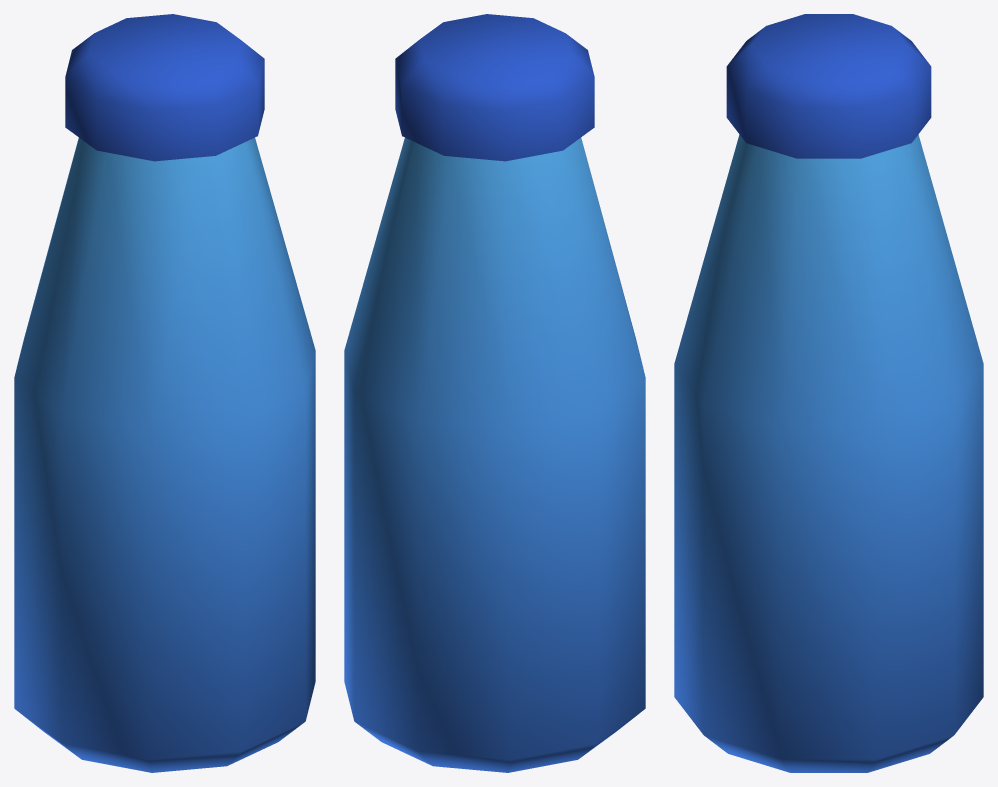
The model's file is bottle_small_water.fbx.
3 views of the same model, side by side, from view 1: azimuth 30°, elevation 25°; view 2: azimuth 150°, elevation 25°; view 3: azimuth 270°, elevation 25° (orthographic).
Visible parts, largest first — view 1: bottle_small_water; view 2: bottle_small_water; view 3: bottle_small_water.
Boxes of the visible parts, left/top/right/bottom form: bottle_small_water: left=14, top=14, right=315, bottom=772; bottle_small_water: left=344, top=14, right=645, bottom=772; bottle_small_water: left=674, top=14, right=983, bottom=772.
Bounding box in the file's own units: 33.8 × 85.83 × 35.54.
